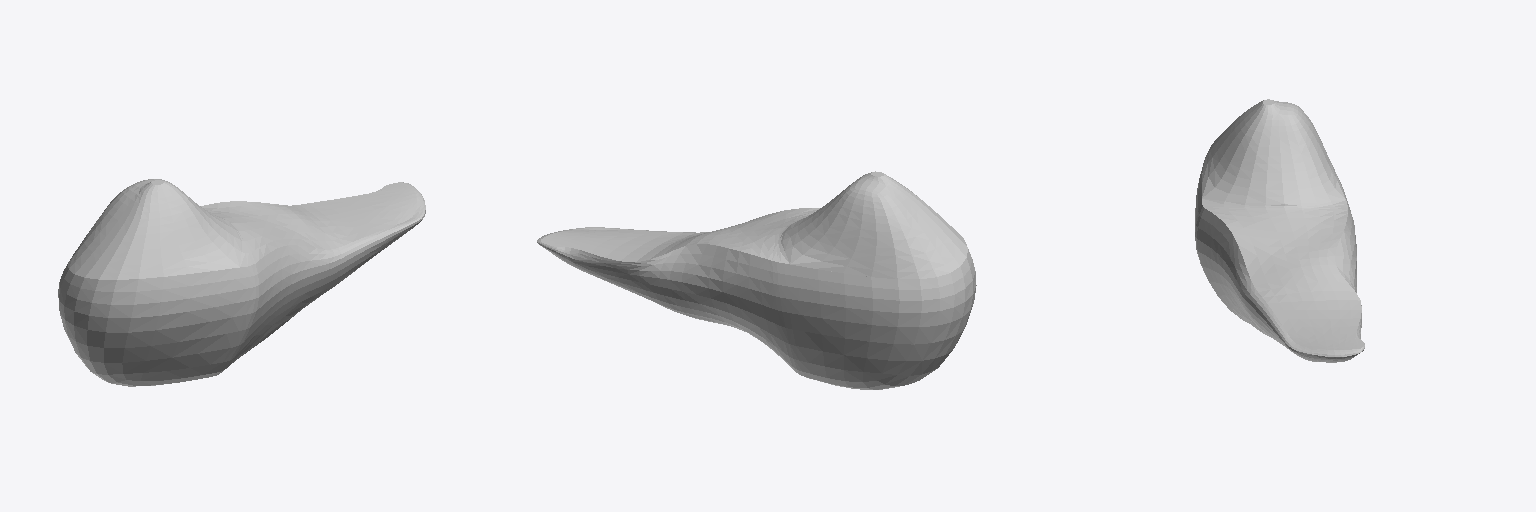
File: sbox_island.obj
3 views of the same model, side by side, from view 1: azimuth 30°, elevation 25°; view 2: azimuth 150°, elevation 25°; view 3: azimuth 270°, elevation 25° (orthographic).
Visible parts, largest first — view 1: Cube_Cube.001; view 2: Cube_Cube.001; view 3: Cube_Cube.001.
Boxes of the visible parts, box(x1,y1,x2,y2) form: Cube_Cube.001: box(58, 179, 425, 386); Cube_Cube.001: box(537, 171, 976, 389); Cube_Cube.001: box(1195, 99, 1364, 362).
Bounding box in the file's own units: 614 × 311 × 234.